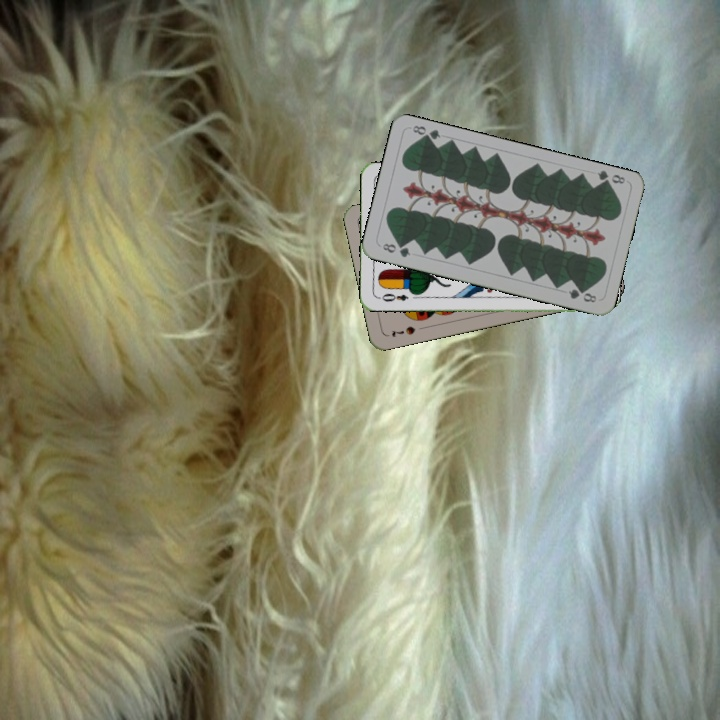EO: (375, 289, 411, 304)
G8: (593, 167, 628, 190), (378, 239, 413, 260)
S7: (387, 322, 418, 340)
